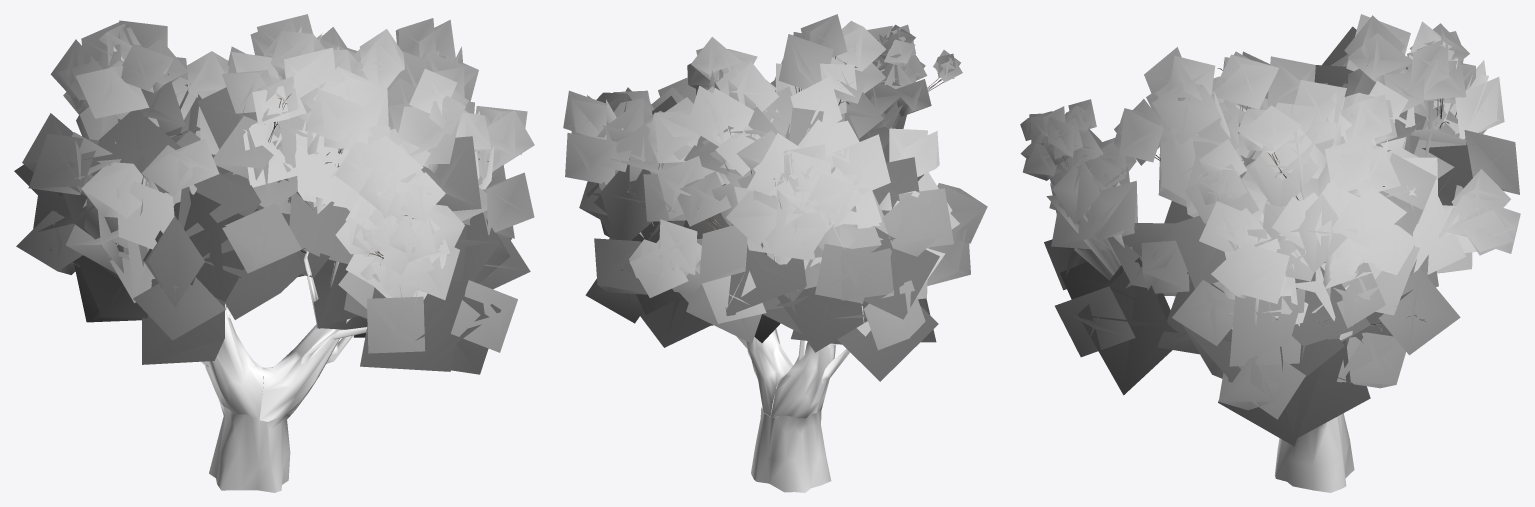
Rendered from Olive_lowp3.fbx.
The picture shows the model from 3 angles, left to right: view 1: azimuth 30°, elevation 25°; view 2: azimuth 150°, elevation 25°; view 3: azimuth 270°, elevation 25°; orthographic projection. The views are drawn at different scales.
Visible parts, largest first — view 1: Olive_lowp; view 2: Olive_lowp; view 3: Olive_lowp.
Part boxes in pixels (x1,y1,x2,y2): Olive_lowp: [14, 14, 534, 492]; Olive_lowp: [563, 14, 987, 492]; Olive_lowp: [1020, 14, 1520, 492].
Size of the model in its own units: 370 by 353 by 375.
